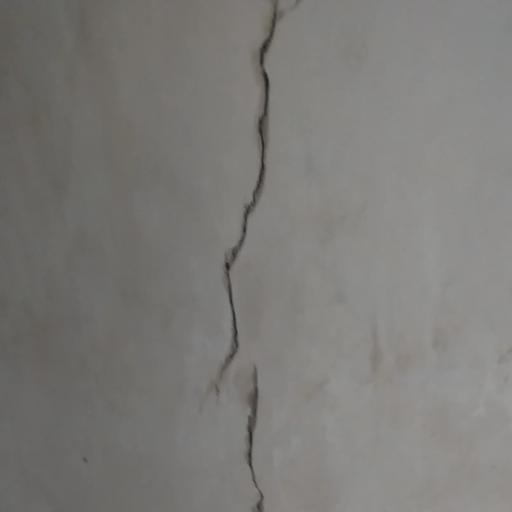minor_crack: (204, 0, 308, 512)
